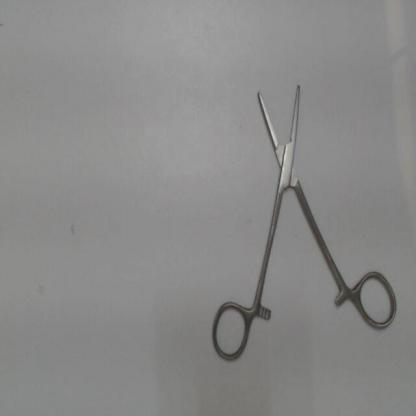Mayo Needle Holder: (207, 63, 402, 365)
